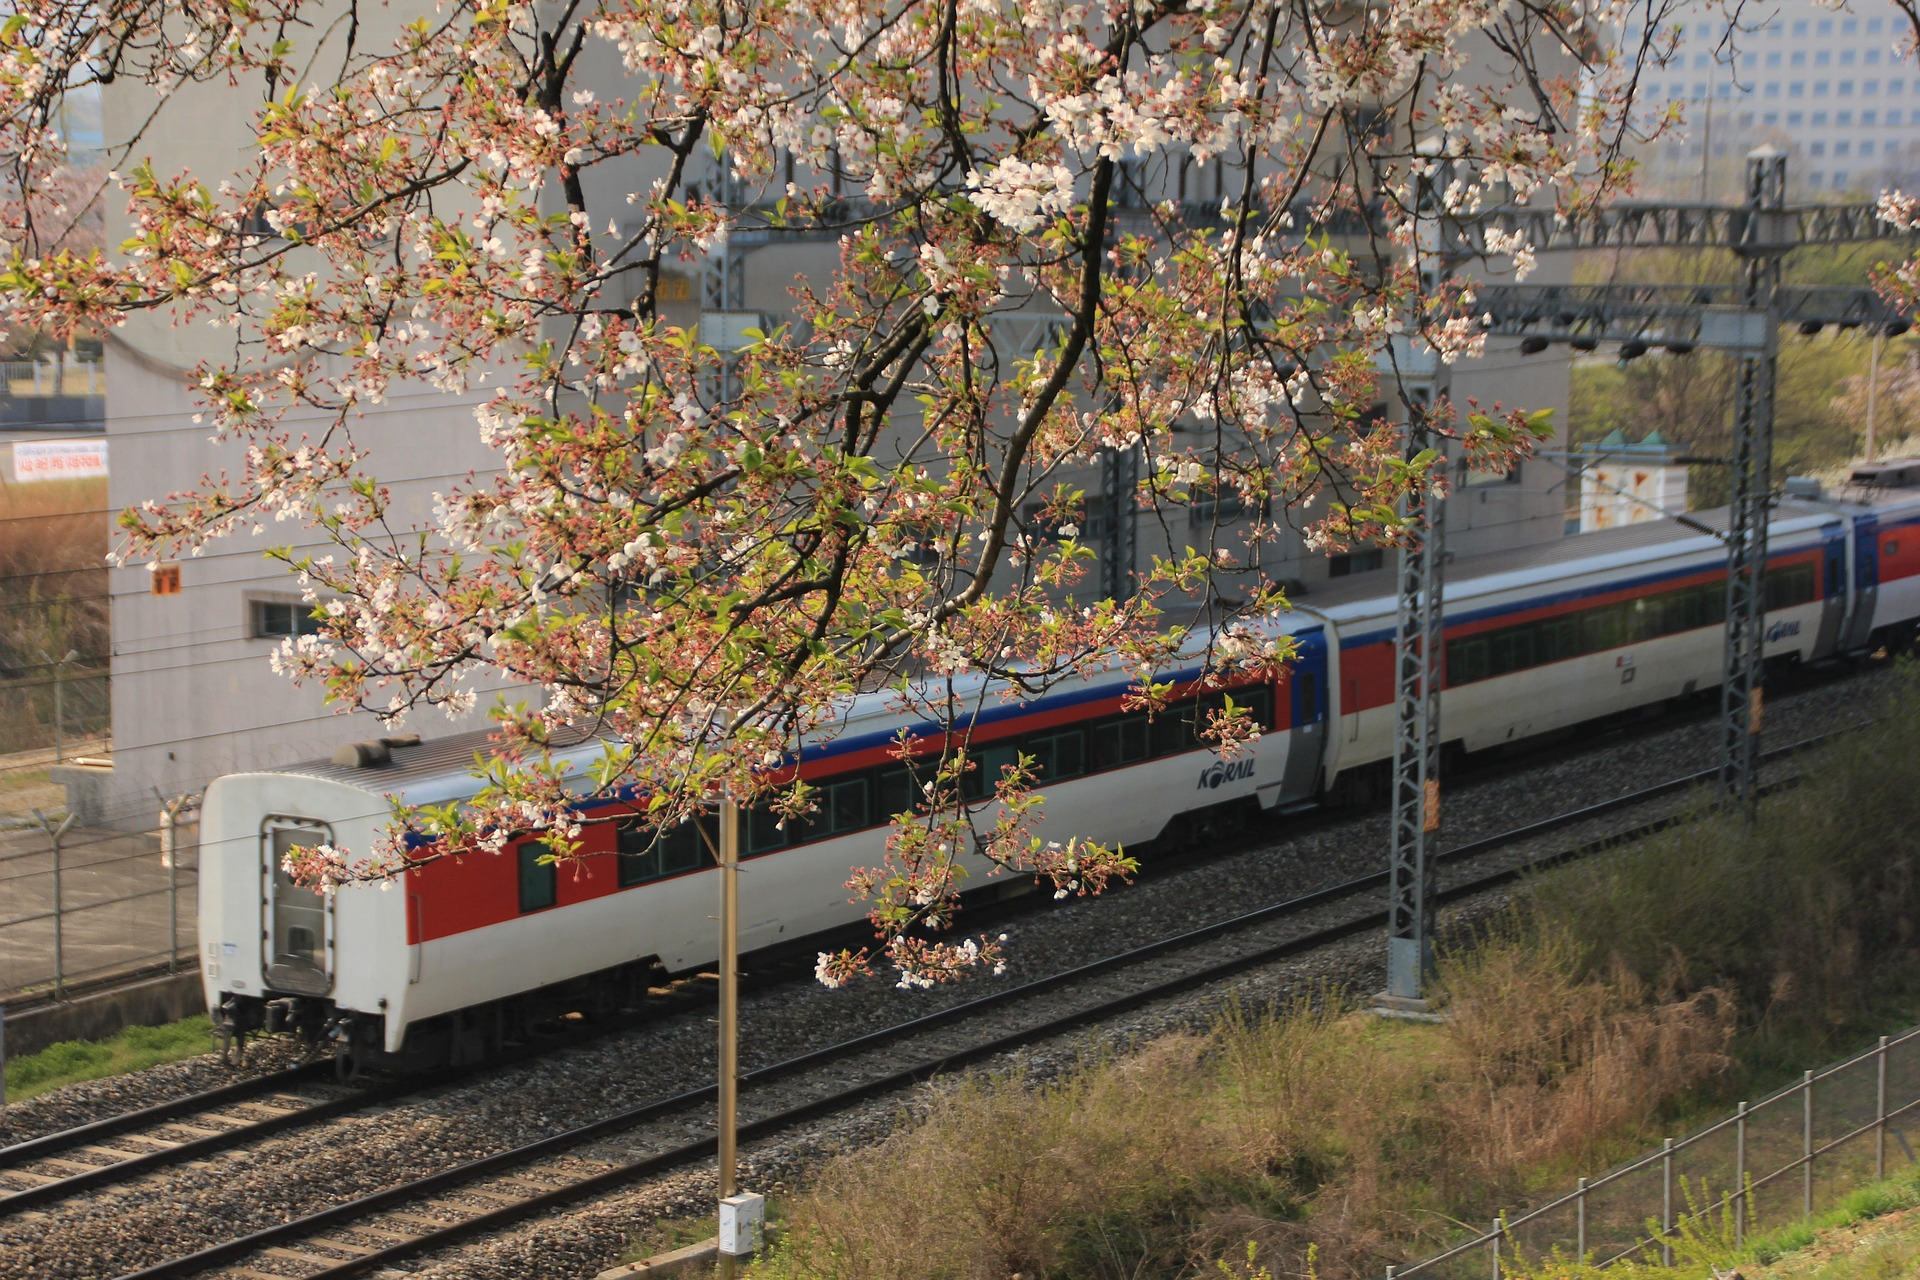train1: (184, 470, 1916, 1081)
